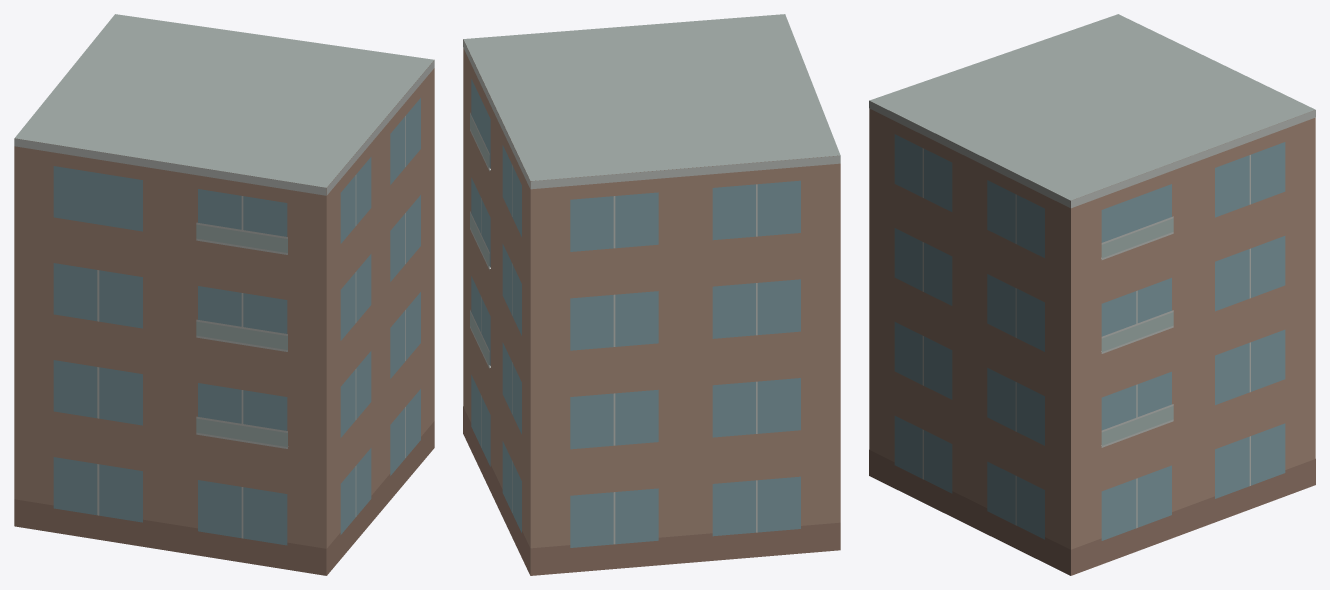
Rendered from survey-upis-32758312.glb.
The picture shows the model from 3 angles, left to right: view 1: azimuth 30°, elevation 25°; view 2: azimuth 150°, elevation 25°; view 3: azimuth 270°, elevation 25°; orthographic projection. The views are drawn at different scales.
Parts seen in each view (by area): view 1: survey-upis-32758312.tmp; view 2: survey-upis-32758312.tmp; view 3: survey-upis-32758312.tmp.
Boxes of the visible parts, box(x1,y1,x2,y2) form: survey-upis-32758312.tmp: box(14, 14, 434, 575); survey-upis-32758312.tmp: box(463, 14, 840, 575); survey-upis-32758312.tmp: box(869, 14, 1315, 575).
Size of the model in its own units: 12.6 by 11.8 by 12.74.
